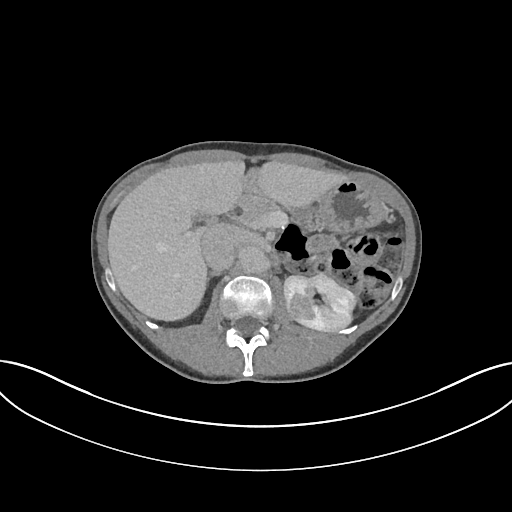Lesion: (287, 290, 318, 325)
